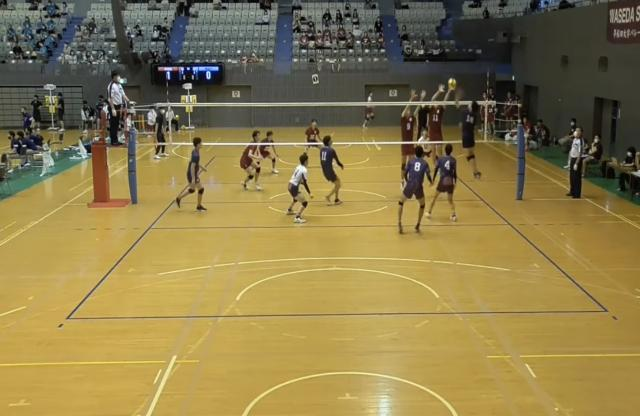spike: (450, 84, 486, 184)
